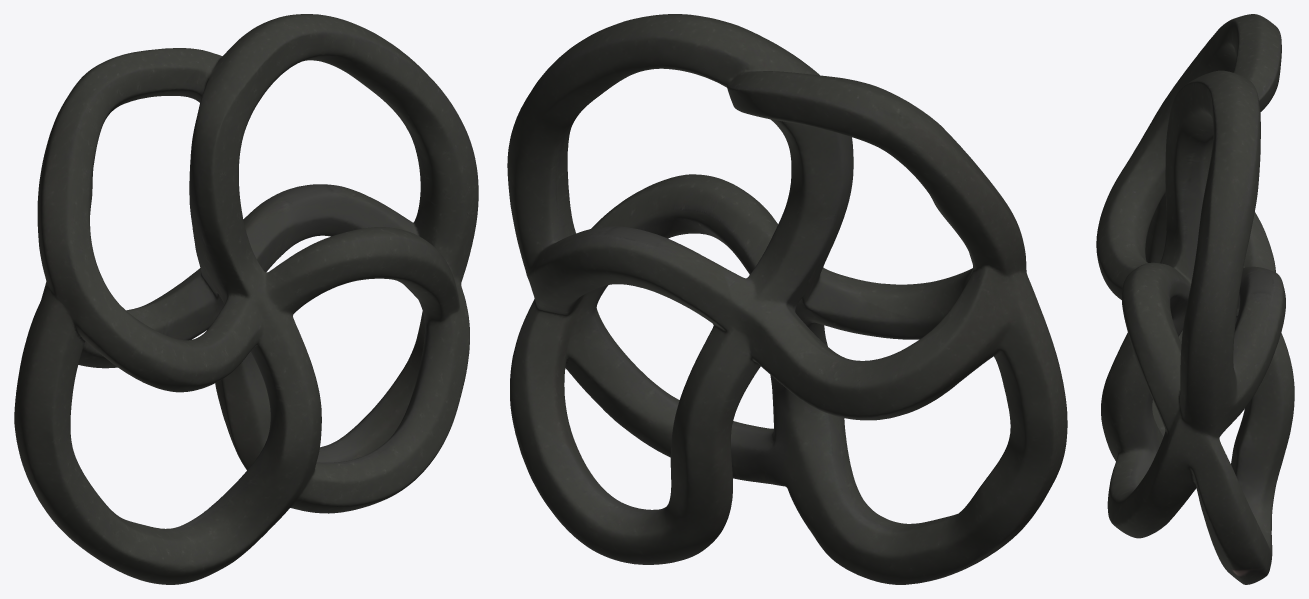
Rendered from simbolo.glb.
3 renders of one model, left to right at view 1: azimuth 30°, elevation 25°; view 2: azimuth 150°, elevation 25°; view 3: azimuth 270°, elevation 25°, orthographic. The views are drawn at different scales.
Size of the model in its own units: 1.88 by 1.89 by 0.7138.
Materials: 1 (1 with a texture image).
